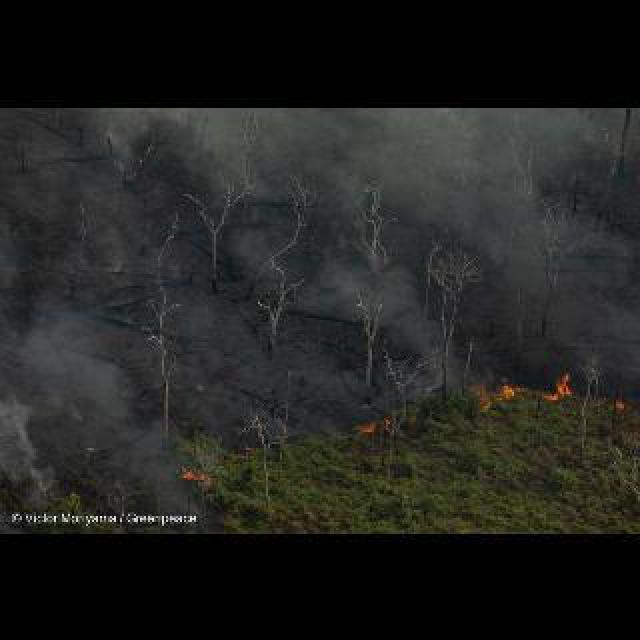fire: (483, 364, 587, 405)
